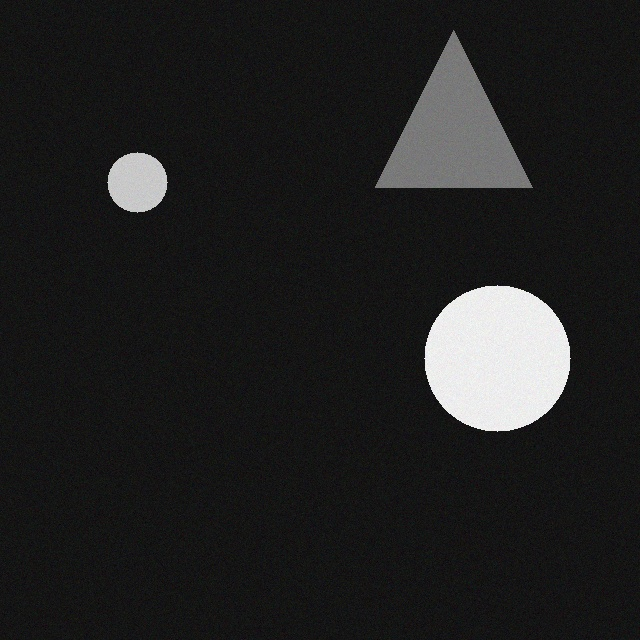circle: (410, 281, 556, 427), (93, 148, 153, 208)
triangle: (361, 26, 518, 183)
